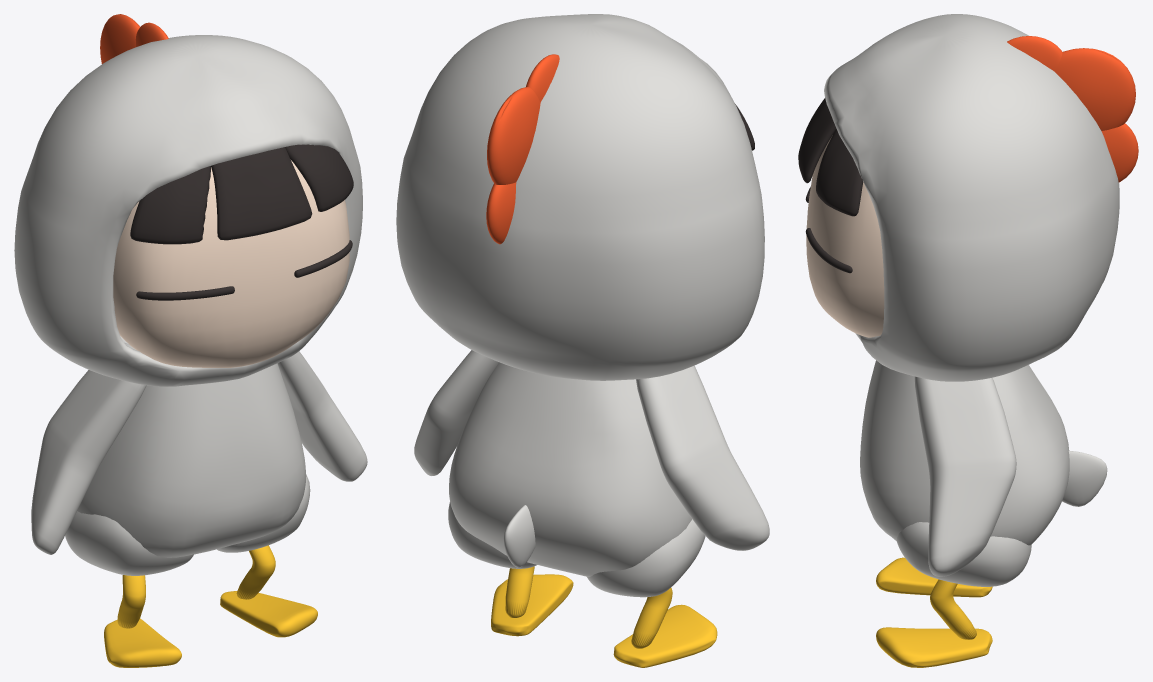
The model's file is chicken.glb.
3 views of the same model, side by side, from view 1: azimuth 30°, elevation 25°; view 2: azimuth 150°, elevation 25°; view 3: azimuth 270°, elevation 25° (orthographic). The views are drawn at different scales.
Parts seen in each view (by area): view 1: Head, Body, Wing_L, Wing_R, Leg_R, Leg_L; view 2: Head, Body, Wing_L, Leg_L, Wing_R, Leg_R; view 3: Head, Body, Wing_R, Leg_R, Leg_L.
Part boxes in pixels (bbox=[...]): Head: bbox=[14, 14, 362, 386]; Body: bbox=[65, 363, 310, 575]; Wing_L: bbox=[31, 342, 146, 554]; Wing_R: bbox=[277, 351, 367, 481]; Leg_R: bbox=[220, 545, 317, 637]; Leg_L: bbox=[104, 575, 181, 667]; Head: bbox=[396, 14, 764, 380]; Body: bbox=[448, 362, 705, 597]; Wing_L: bbox=[636, 365, 769, 550]; Leg_L: bbox=[613, 587, 717, 667]; Wing_R: bbox=[414, 350, 498, 475]; Leg_R: bbox=[491, 566, 573, 636]; Head: bbox=[798, 14, 1138, 381]; Body: bbox=[860, 360, 1107, 586]; Wing_R: bbox=[914, 376, 1016, 576]; Leg_R: bbox=[876, 579, 992, 667]; Leg_L: bbox=[876, 557, 992, 597].
Bounding box in the file's own units: 0.8219 × 1.37 × 0.7217.
